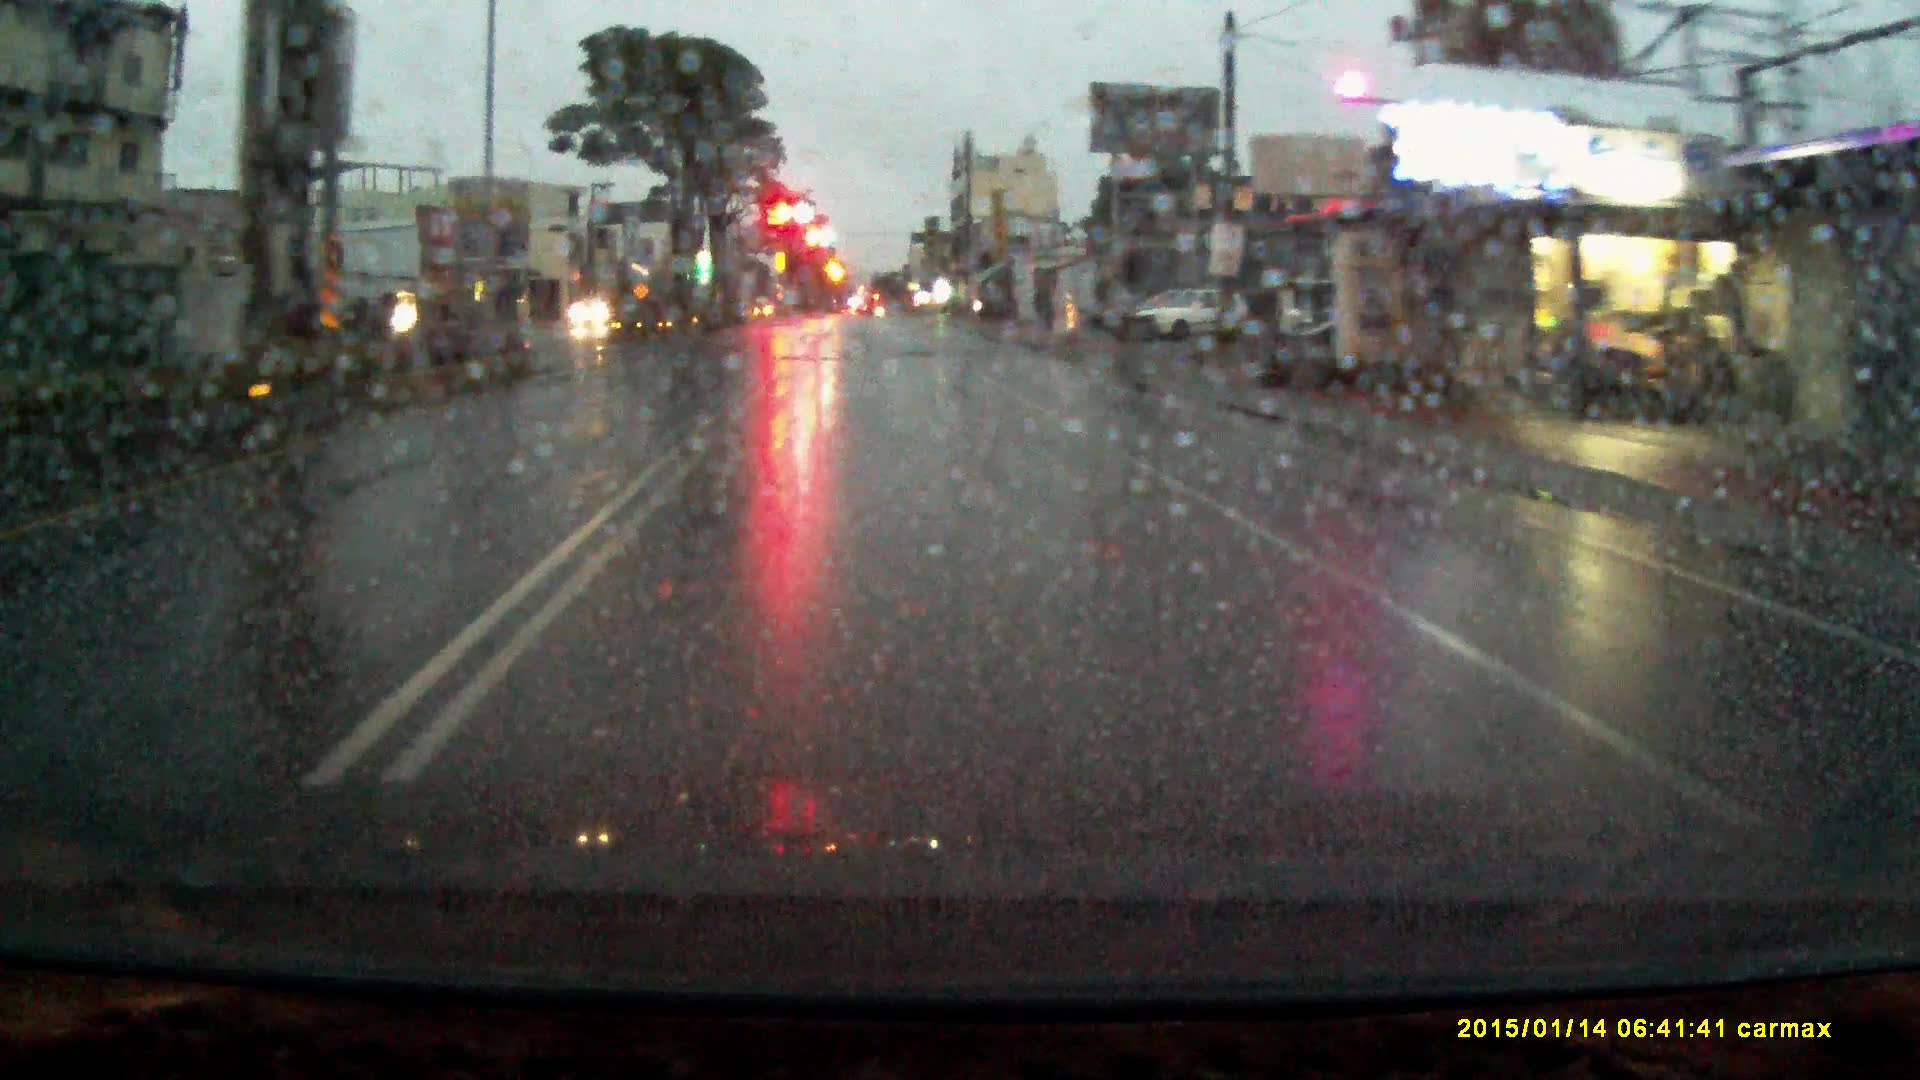vehicle: (1131, 284, 1257, 343), (568, 293, 618, 330)
